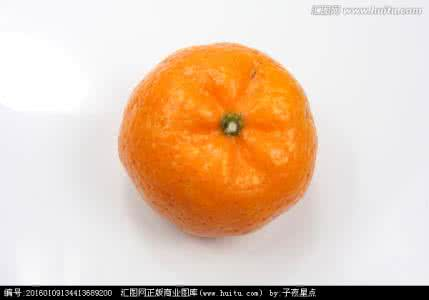orange: (116, 40, 324, 236)
